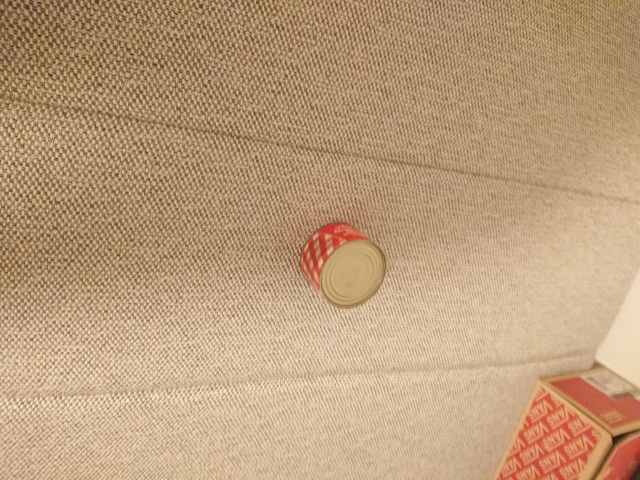Podravka Luncheon Meat 150g: (298, 220, 388, 310)
